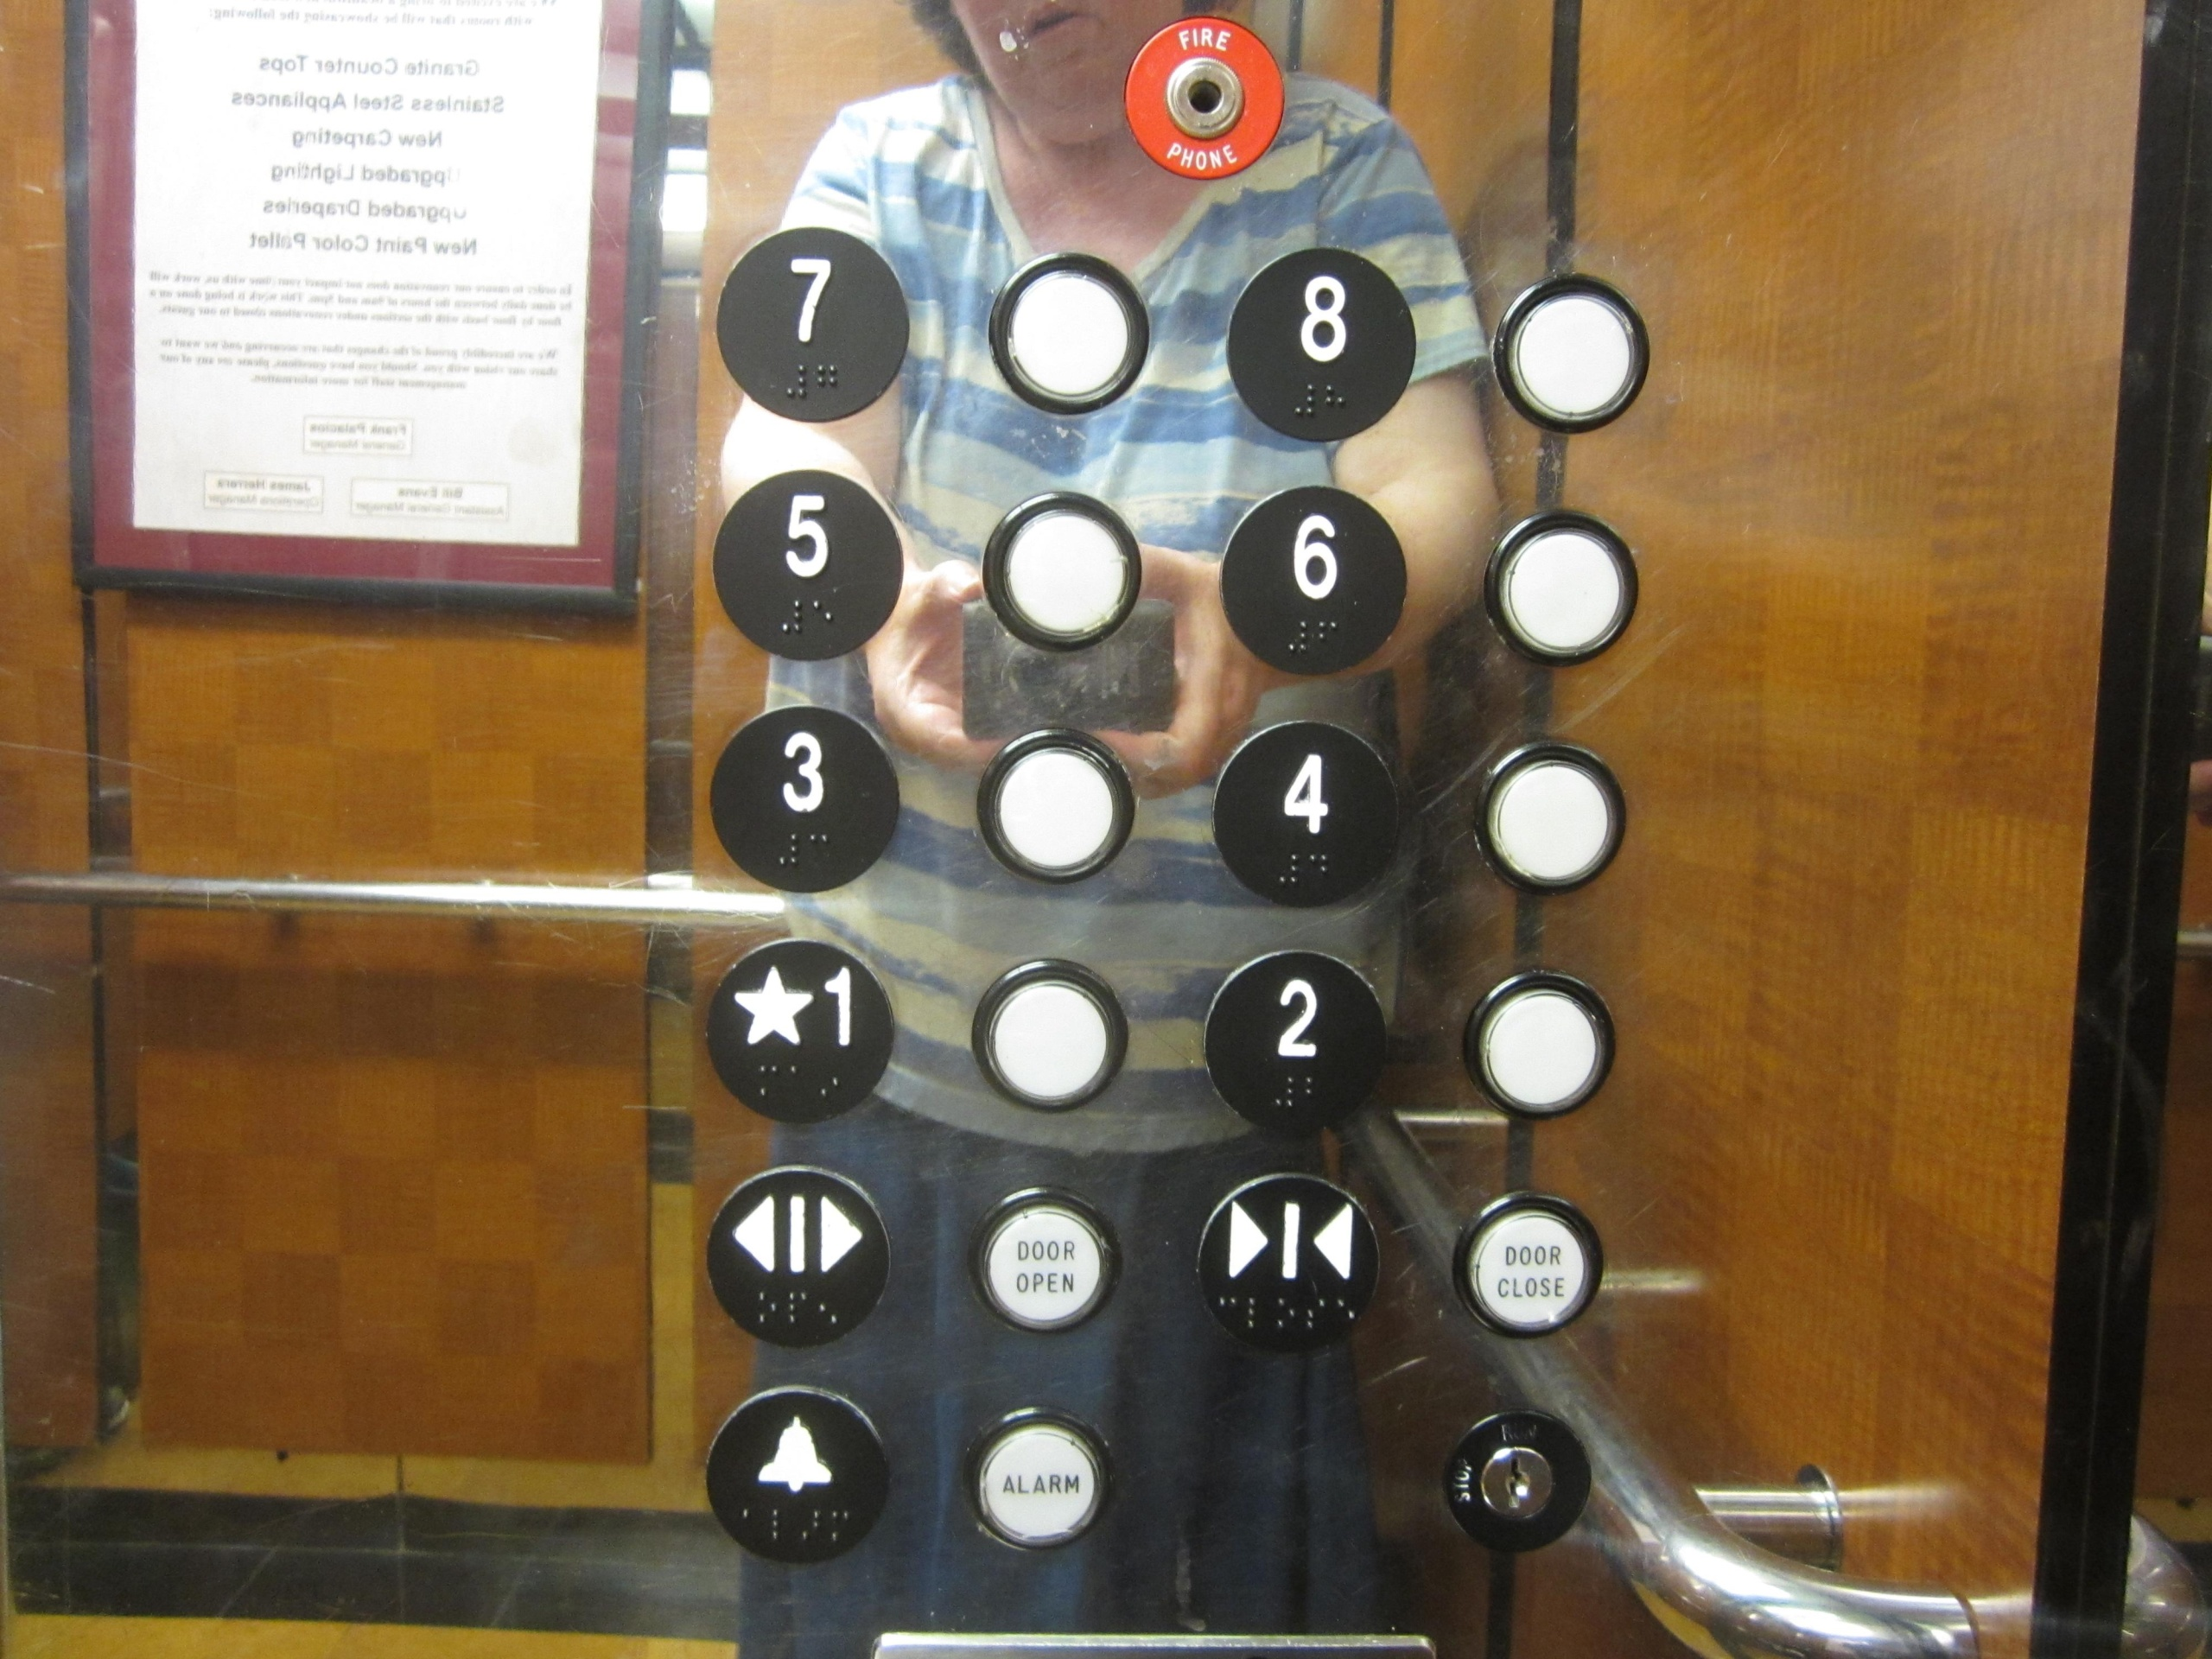2: (1200, 939, 1409, 1147)
3: (700, 685, 909, 901)
4: (1204, 706, 1413, 922)
5: (702, 457, 911, 673)
6: (1214, 471, 1423, 687)
7: (709, 216, 918, 432)
8: (1219, 237, 1428, 451)
alarm: (702, 1368, 902, 1574)
close: (1193, 1161, 1393, 1368)
empty: (981, 240, 1155, 422), (979, 479, 1153, 660), (961, 941, 1136, 1122), (967, 713, 1141, 892), (1460, 957, 1627, 1126), (1470, 732, 1637, 899), (1479, 498, 1646, 666), (1484, 267, 1651, 434)
keyhole: (1122, 10, 1289, 179), (1439, 1403, 1597, 1553)
open: (693, 1159, 906, 1351)
s1: (698, 924, 907, 1131)
text_alarm: (956, 1394, 1120, 1565)
text_door close: (1454, 1180, 1618, 1349)
text_door open: (963, 1175, 1127, 1345)
